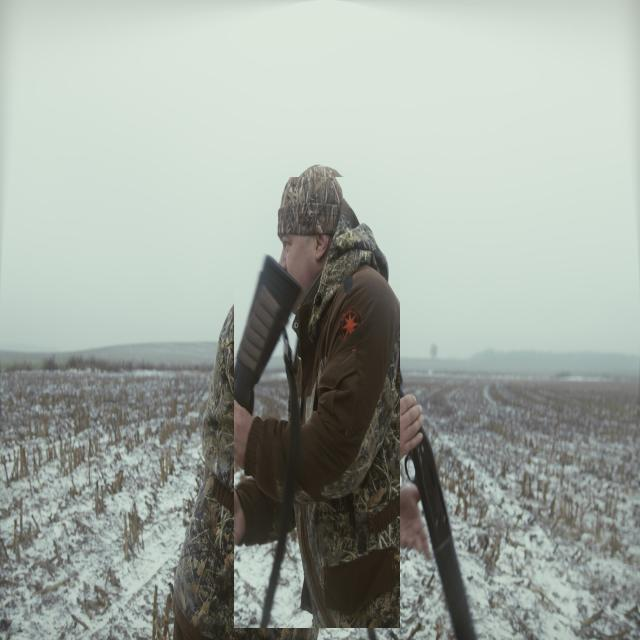poacher: (234, 177, 400, 628)
weapon: (290, 180, 326, 300)
